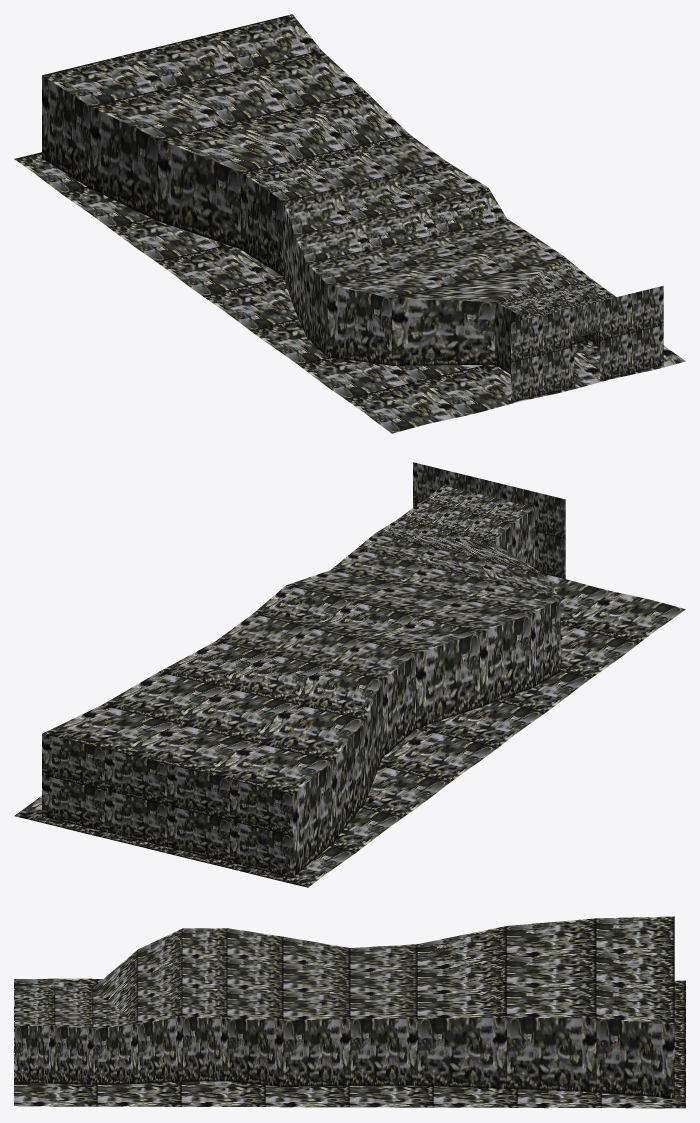
Rendered from mine_enclosure.glb.
3 views of the same model, one above another, from view 1: azimuth 30°, elevation 25°; view 2: azimuth 150°, elevation 25°; view 3: azimuth 270°, elevation 25° (orthographic). The views are drawn at different scales.
Visible parts, largest first — view 1: MineEnclosureNode; view 2: MineEnclosureNode; view 3: MineEnclosureNode.
Boxes of the visible parts, x1,y1,x2,y2 form: MineEnclosureNode: (14, 14, 685, 433); MineEnclosureNode: (14, 462, 685, 887); MineEnclosureNode: (14, 916, 685, 1108).
Bounding box in the file's own units: 13.5 × 3.66 × 30.05.
Materials: 1 (1 with a texture image).
